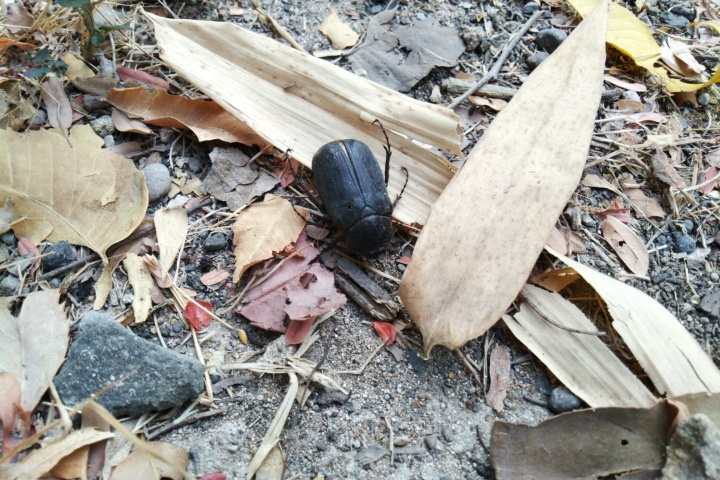INS-A: (269, 116, 423, 272)
